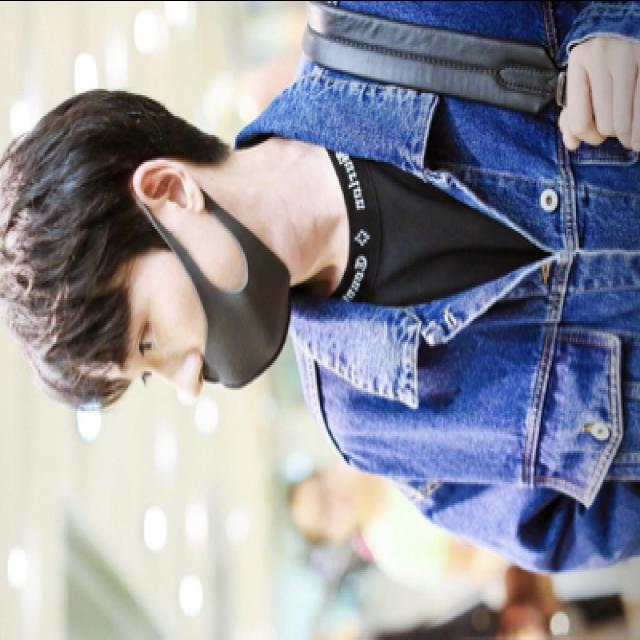mask_weared_incorrect: (113, 220, 290, 396)
